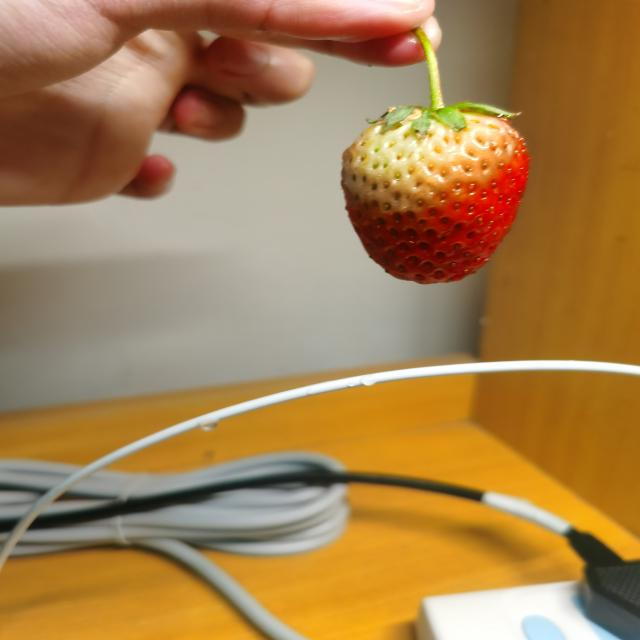stem: (422, 41, 446, 114)
strawberry: (341, 103, 530, 285)
